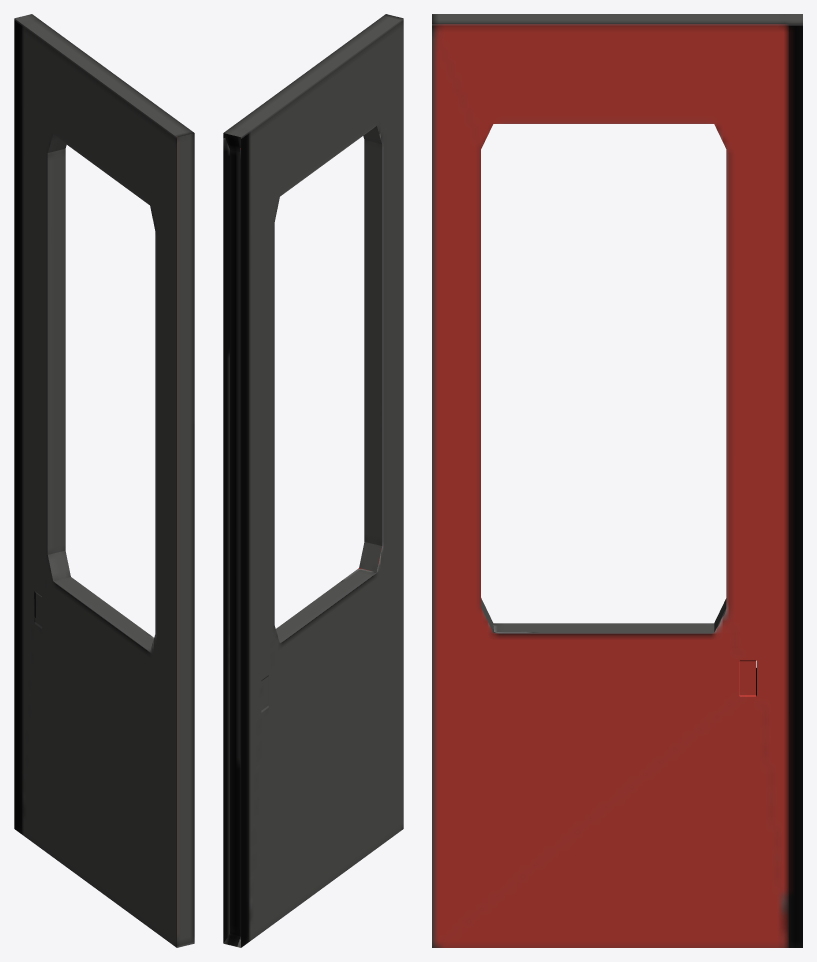
The model's file is left door.obj.
3 renders of one model, left to right at view 1: azimuth 30°, elevation 25°; view 2: azimuth 150°, elevation 25°; view 3: azimuth 270°, elevation 25°, orthographic. The views are drawn at different scales.
Visible parts, largest first — view 1: Left_Door_Cube.006; view 2: Left_Door_Cube.006; view 3: Left_Door_Cube.006.
Part boxes in pixels (box(x1,y1,x2,y2)): Left_Door_Cube.006: box(14, 14, 194, 947); Left_Door_Cube.006: box(223, 14, 403, 947); Left_Door_Cube.006: box(432, 14, 802, 947).
Size of the model in its own units: 0.032 by 1.39 by 0.5066.
